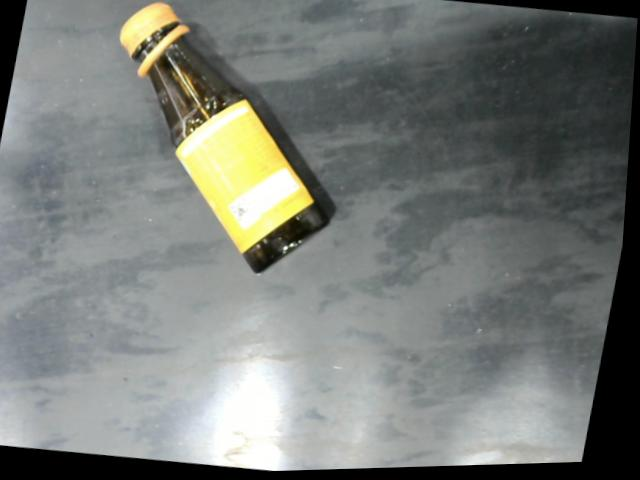glass: (106, 0, 339, 276)
